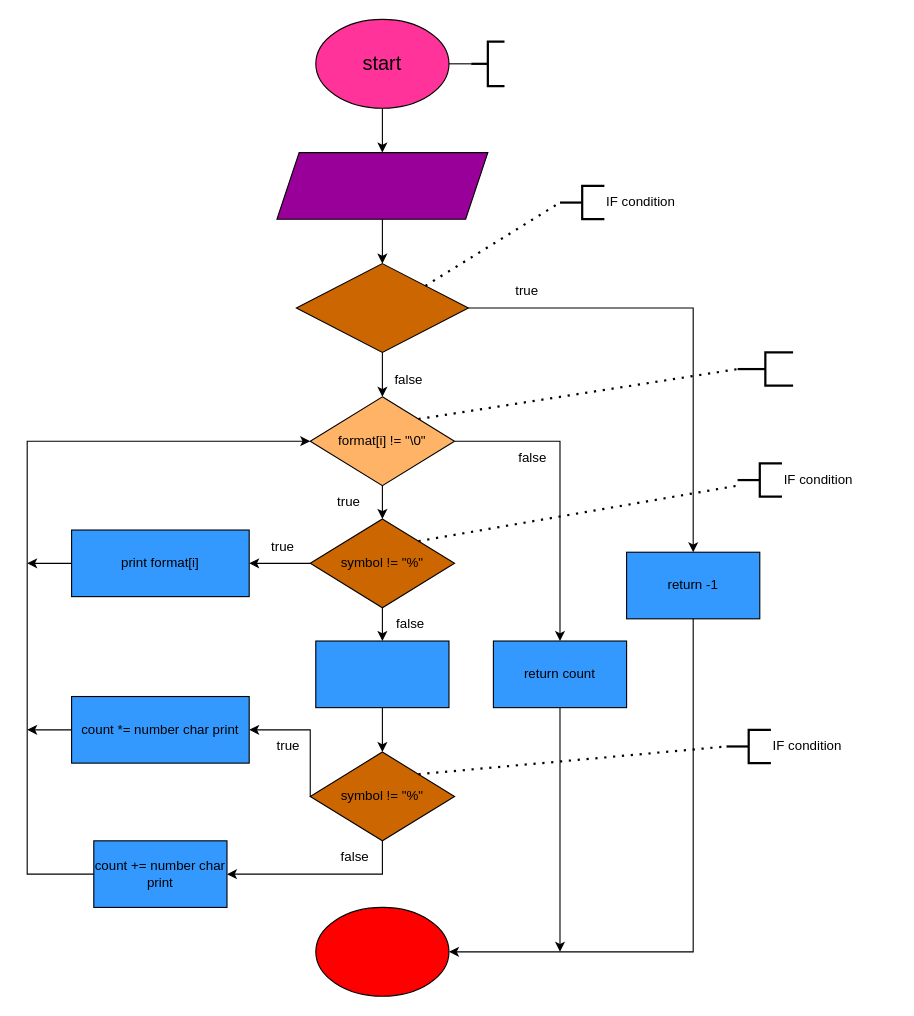
This 914x1016 diagram has some shape labels left out. The shapes that lost their labels are listed below. From the top down, each one's centre as x and y in pixels, then its label:
(487,63): int _printf(const char *format, ...)
(382,185): input: (const char *format, ...) #include "main.h"
(381,307): format == NULL or format == "%"
(765,368): WHILE condition
(382,674): call function get_func()
(382,951): end
